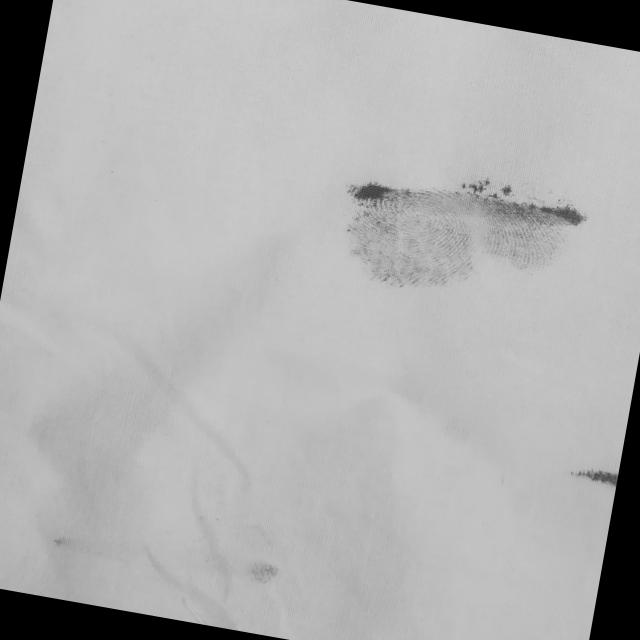Stain: (327, 152, 592, 319), (565, 462, 618, 489), (243, 558, 280, 589), (46, 531, 71, 553)
